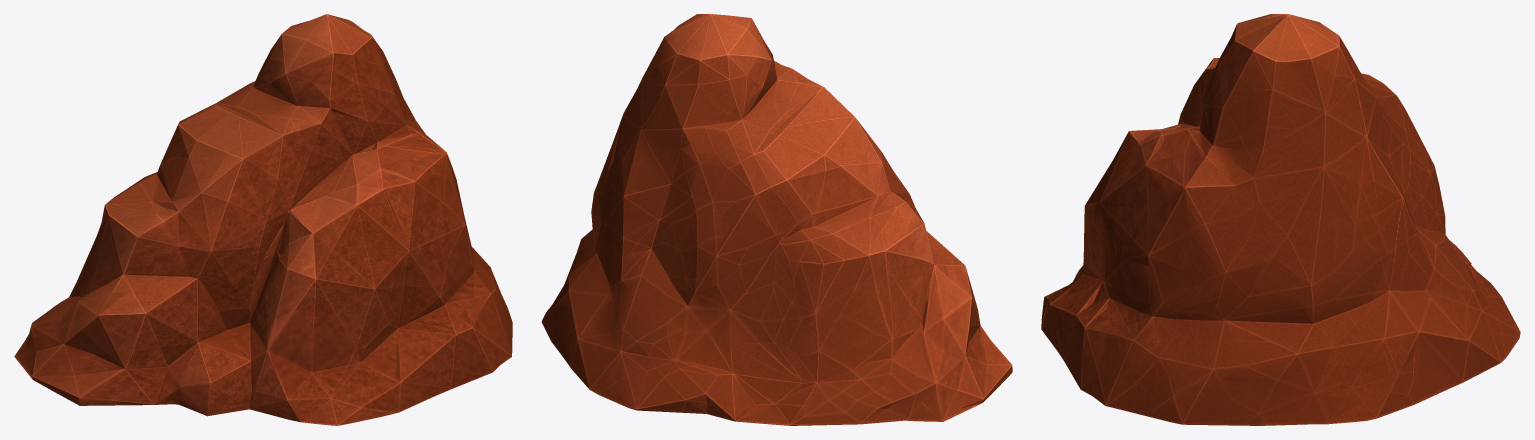
Rendered from desert_medium_3.glb.
3 views of the same model, side by side, from view 1: azimuth 30°, elevation 25°; view 2: azimuth 150°, elevation 25°; view 3: azimuth 270°, elevation 25° (orthographic). The views are drawn at different scales.
Parts seen in each view (by area): view 1: output_unwrapped; view 2: output_unwrapped; view 3: output_unwrapped.
Part boxes in pixels (x1,y1,x2,y2): output_unwrapped: (14,14,512,425); output_unwrapped: (541,14,1012,425); output_unwrapped: (1041,14,1520,425).
Size of the model in its own units: 1.9 by 1.32 by 1.7.
Materials: 1 (1 with a texture image).
